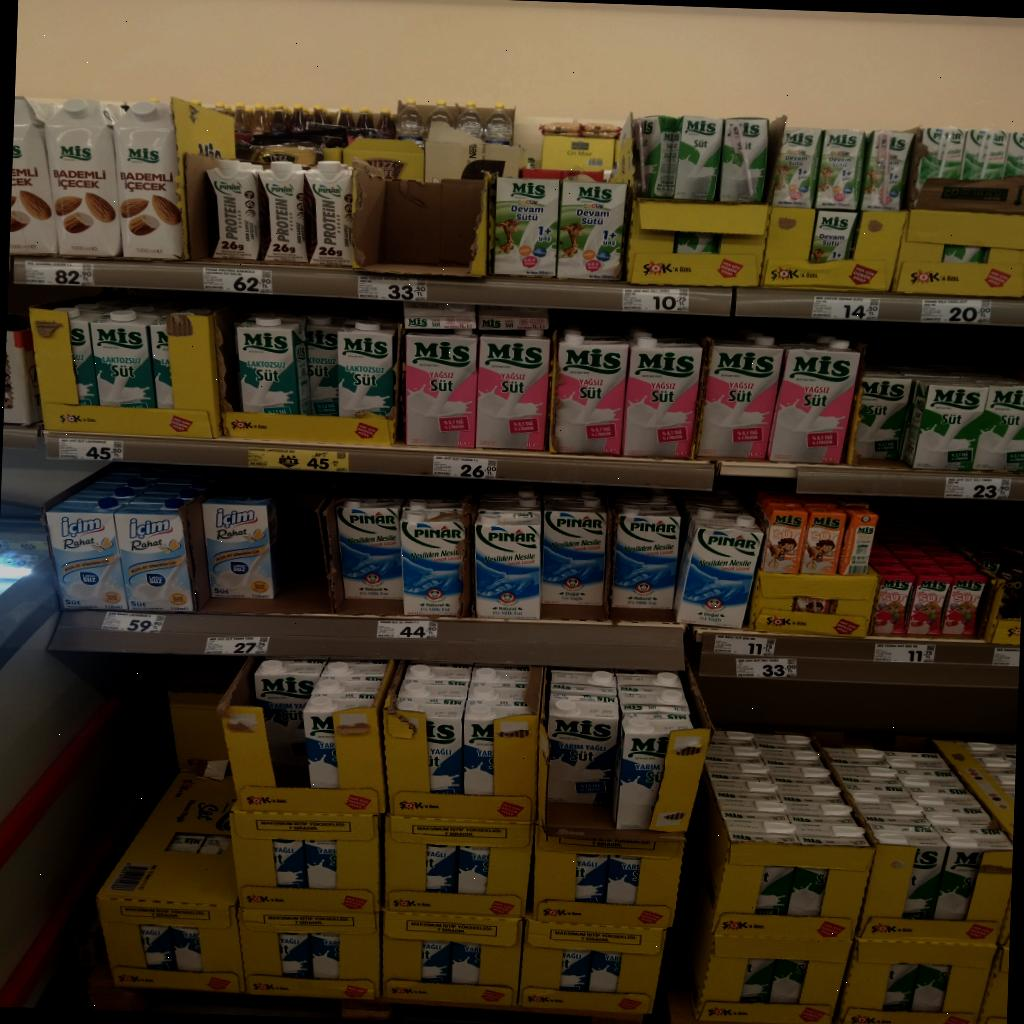price_tag: (248, 448, 348, 472), (203, 267, 272, 294), (359, 274, 427, 301), (623, 286, 690, 313), (25, 260, 94, 286), (921, 299, 991, 324), (812, 296, 880, 321), (944, 476, 1011, 500), (60, 437, 122, 462), (434, 456, 497, 479), (101, 611, 165, 633), (714, 635, 776, 656), (874, 643, 936, 664), (377, 619, 438, 639), (736, 658, 797, 678), (204, 637, 269, 655), (993, 647, 1019, 667)
product: (45, 99, 122, 257), (767, 339, 861, 463), (108, 101, 182, 257), (698, 336, 783, 458), (675, 509, 762, 627), (552, 321, 629, 453), (622, 334, 702, 457), (613, 712, 691, 829), (46, 496, 126, 610), (114, 496, 193, 611), (475, 332, 549, 450), (201, 490, 281, 598), (405, 331, 477, 447), (547, 688, 619, 804), (901, 376, 986, 470), (540, 489, 607, 606), (9, 96, 58, 254), (399, 501, 466, 615), (473, 508, 540, 619), (333, 496, 404, 600), (611, 502, 680, 609), (235, 316, 308, 414), (556, 181, 627, 280), (254, 660, 323, 756), (493, 177, 558, 277), (92, 310, 156, 407), (337, 321, 395, 416), (854, 365, 912, 459), (207, 159, 260, 259), (305, 160, 351, 263), (261, 161, 309, 259), (973, 383, 1024, 471), (861, 129, 913, 210), (673, 116, 723, 200), (718, 118, 768, 202), (771, 125, 822, 206), (814, 128, 864, 209), (933, 838, 983, 919), (635, 116, 681, 198), (941, 562, 988, 636), (68, 306, 102, 404), (425, 705, 462, 793), (902, 844, 946, 918), (760, 506, 808, 573), (303, 698, 339, 787), (799, 506, 846, 574), (905, 567, 952, 635), (462, 703, 497, 794), (873, 564, 914, 634), (916, 126, 963, 186), (837, 507, 878, 574), (809, 209, 858, 262), (960, 128, 1006, 180), (150, 318, 173, 407), (1003, 131, 1024, 177), (270, 743, 297, 765)
